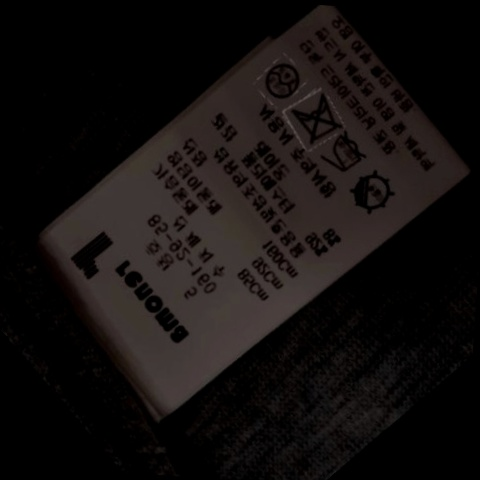DN_wash: (286, 95, 342, 143)
dry_clean_petrol_only: (259, 58, 302, 100)
iron_low: (320, 133, 369, 176)
line_dry_in_shade: (342, 171, 396, 215)
